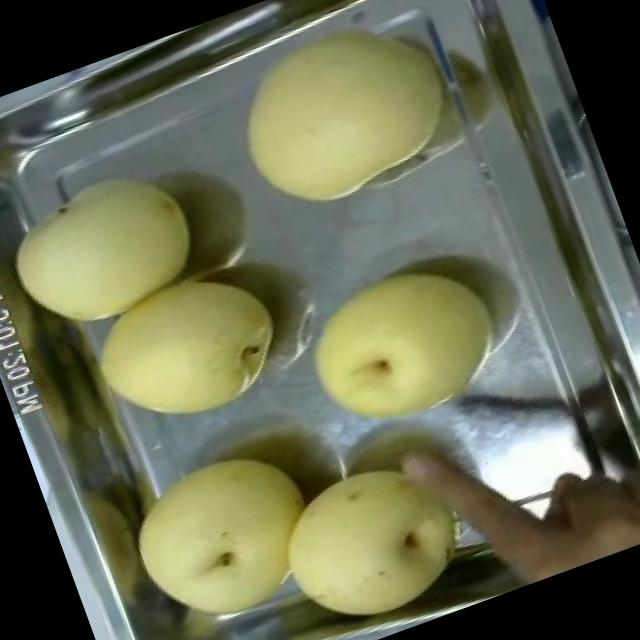Fruit: (200, 0, 484, 242), (276, 230, 528, 460), (103, 419, 349, 640), (251, 426, 495, 640), (69, 242, 308, 458), (0, 140, 223, 355), (452, 408, 640, 599)
